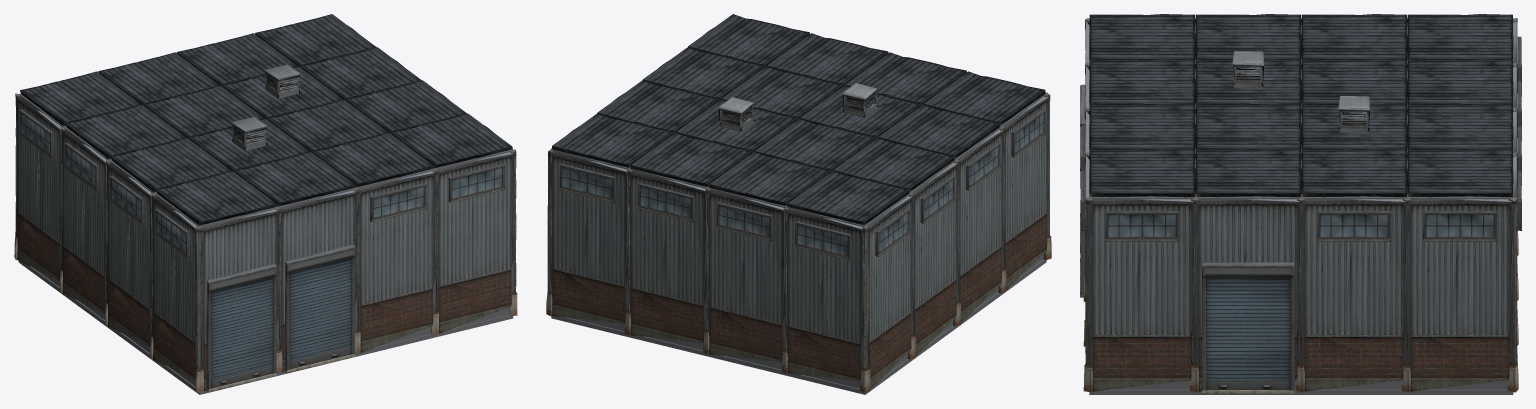
File: high-bay-store.glb
The picture shows the model from 3 angles, left to right: view 1: azimuth 30°, elevation 25°; view 2: azimuth 150°, elevation 25°; view 3: azimuth 270°, elevation 25°; orthographic projection. The views are drawn at different scales.
Visible parts, largest first — view 1: wall_078, wall_072, door_050, door_068, wall_051, wall_057, wall_054, wall_063, wall_048, wall_066, roof_001, roof_025 (+27 smaller); view 2: wall_060, wall_075, wall_093, wall_069, wall_051, wall_054, wall_063, wall_057, roof_010, roof_046, roof_034, roof_022 (+29 smaller); view 3: wall_081, wall_087, wall_090, door_086, wall_084, roof_037, roof_040, roof_043, roof_046, roof_001, roof_013, roof_007 (+26 smaller).
Part boxes in pixels (x1,y1,x2,y2): wall_078: (436,152,514,333); wall_072: (358,171,436,352); door_050: (206,264,276,392); door_068: (284,245,355,373); wall_051: (151,195,197,380); wall_057: (61,129,106,313); wall_054: (106,161,152,346); wall_063: (16,95,61,280); wall_048: (201,209,279,390); wall_066: (279,190,357,371); roof_001: (156,171,277,225); roof_025: (312,132,434,187); wall_060: (785,209,863,381); wall_075: (628,171,706,342); wall_093: (550,151,628,323); wall_069: (707,190,785,362); wall_051: (1003,96,1048,289); wall_054: (958,129,1003,322); wall_063: (867,196,912,388); wall_057: (913,163,958,355); roof_010: (787,171,909,225); roof_046: (551,113,674,167); roof_034: (630,132,752,186); roof_022: (708,152,830,205); wall_081: (1089,198,1194,391); wall_087: (1301,198,1406,391); wall_090: (1407,198,1512,391); door_086: (1202,262,1294,393); wall_084: (1195,198,1300,391); roof_037: (1089,148,1195,197); roof_040: (1195,148,1301,197); roof_043: (1301,148,1407,197); roof_046: (1407,148,1513,197); roof_001: (1089,14,1195,59); roof_013: (1089,58,1195,104); roof_007: (1301,14,1407,60).
Size of the model in its own units: 16.68 by 9.41 by 16.68.
7 materials, 6 textured.
